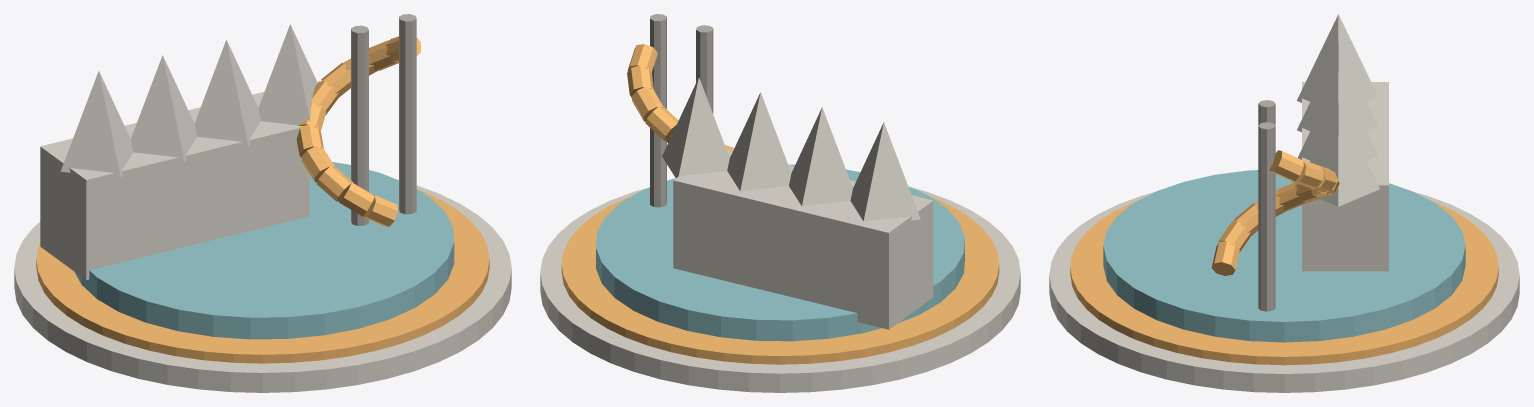
The model's file is aquarium.glb.
3 renders of one model, left to right at view 1: azimuth 30°, elevation 25°; view 2: azimuth 150°, elevation 25°; view 3: azimuth 270°, elevation 25°, orthographic. The views are drawn at different scales.
Parts seen in each view (by area): view 1: Cone.019; view 2: Cone.019; view 3: Cone.019.
Part boxes in pixels (box(x1,y1,x2,y2)): Cone.019: box(14, 14, 511, 392); Cone.019: box(540, 14, 1020, 392); Cone.019: box(1049, 14, 1519, 392).
Bounding box in the file's own units: 2.7 × 1.46 × 2.7.
